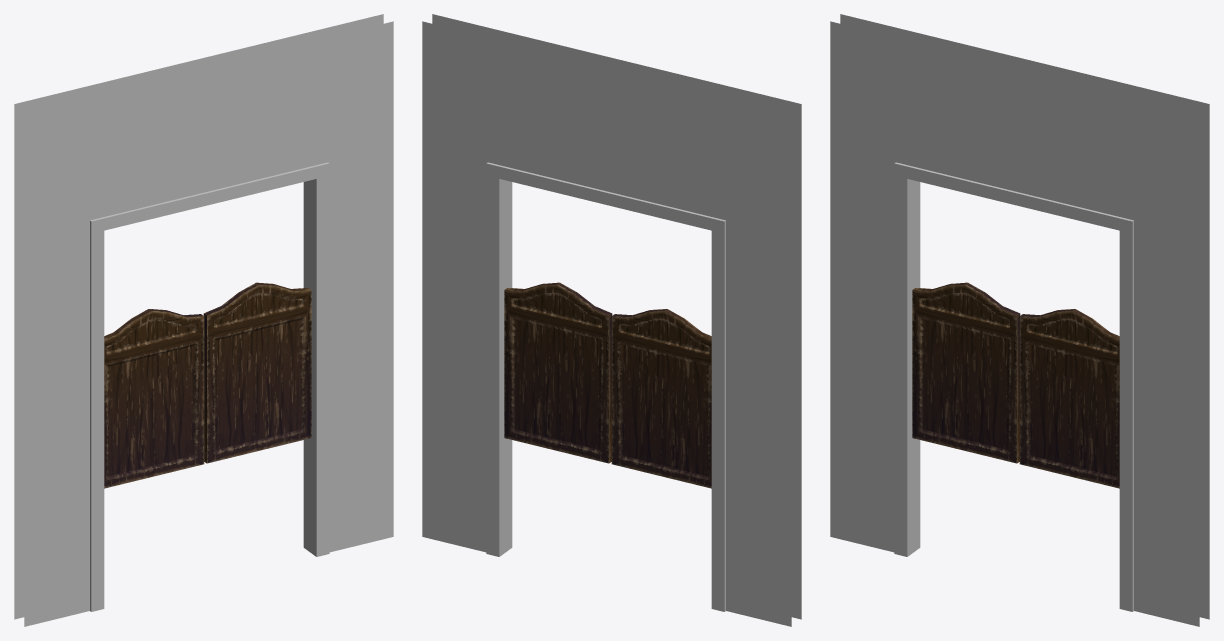
Rendered from M_FrontDoor_Fbx.fbx.
3 renders of one model, left to right at view 1: azimuth 30°, elevation 25°; view 2: azimuth 150°, elevation 25°; view 3: azimuth 330°, elevation 25°, orthographic.
Visible parts, largest first — view 1: Cube.010, Cube.017, Cube.018; view 2: Cube.010, Cube.017, Cube.018; view 3: Cube.010, Cube.018, Cube.017.
Boxes of the visible parts, x1,y1,x2,y2 form: Cube.010: [14, 14, 393, 626]; Cube.017: [203, 282, 311, 463]; Cube.018: [104, 309, 204, 488]; Cube.010: [422, 14, 801, 626]; Cube.017: [504, 282, 612, 463]; Cube.018: [611, 309, 711, 488]; Cube.010: [830, 14, 1209, 626]; Cube.018: [912, 282, 1020, 463]; Cube.017: [1019, 309, 1119, 488].
Size of the model in its own units: 300 by 400 by 18.36.
